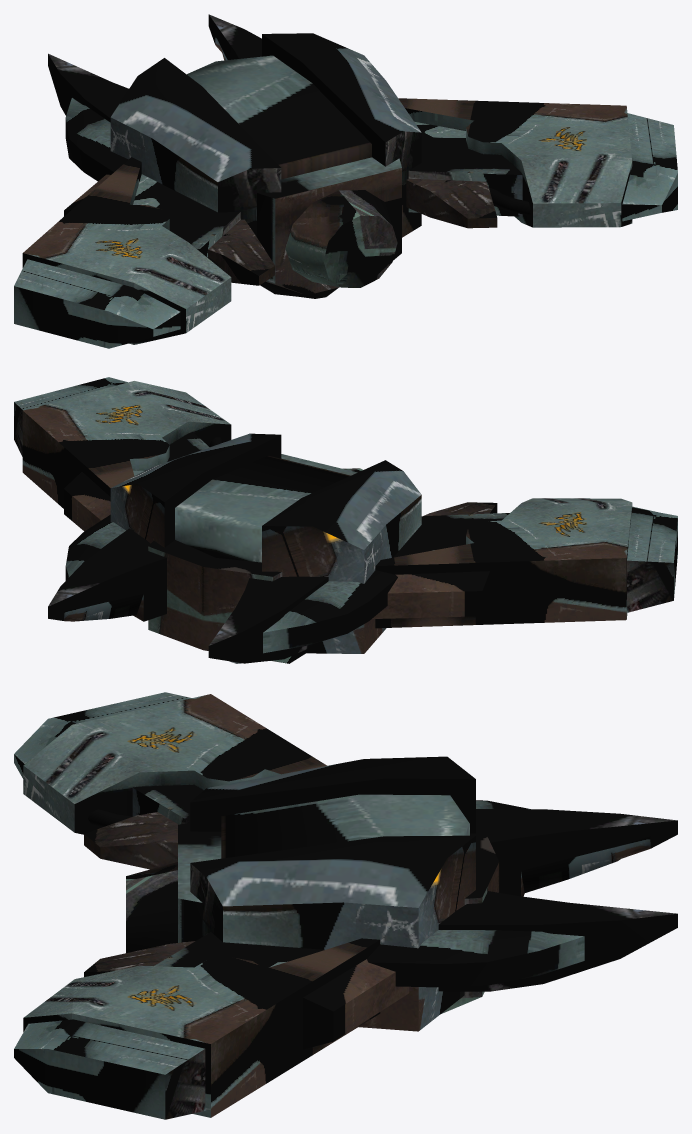
The model's file is ship11b.fbx.
The picture shows the model from 3 angles, top to bottom: view 1: azimuth 30°, elevation 25°; view 2: azimuth 150°, elevation 25°; view 3: azimuth 270°, elevation 25°; orthographic projection. The views are drawn at different scales.
Visible parts, largest first — view 1: PipelineFBX; view 2: PipelineFBX; view 3: PipelineFBX.
Boxes of the visible parts, <box> form: PipelineFBX: <box>14,14,677,348</box>; PipelineFBX: <box>14,377,677,663</box>; PipelineFBX: <box>14,692,677,1119</box>.
Size of the model in its own units: 175 by 47.56 by 128.
Materials: 1 (1 with a texture image).
